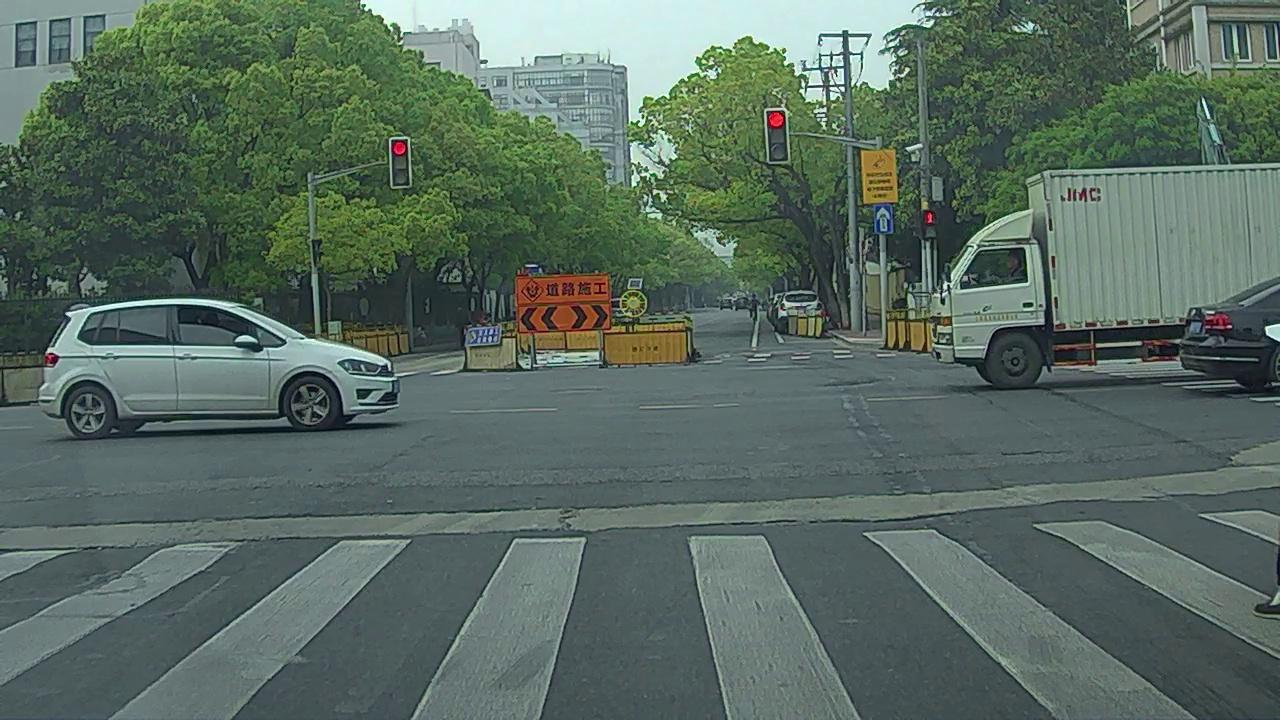traffic_light: (764, 110, 788, 164), (389, 138, 410, 187)
